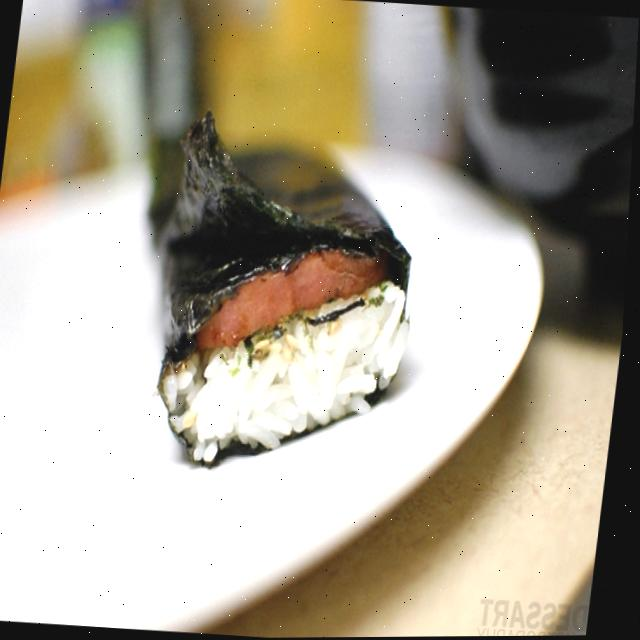寿司卷物: (105, 97, 458, 491)
